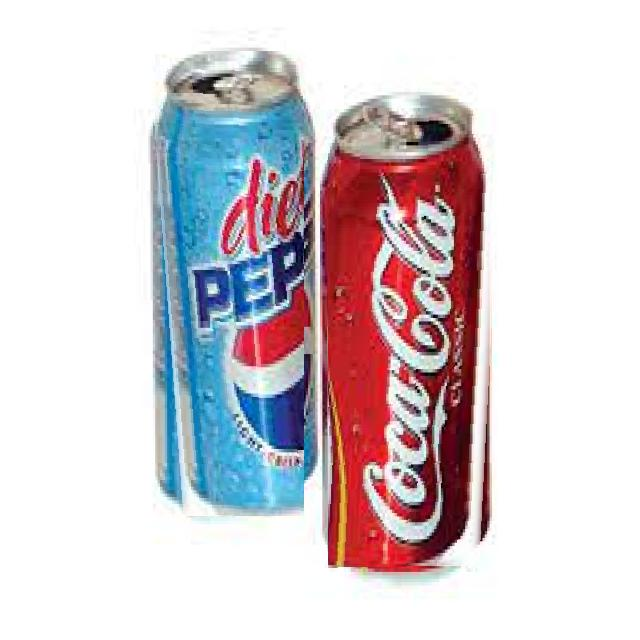Cans: (328, 108, 503, 568), (150, 64, 304, 516)
